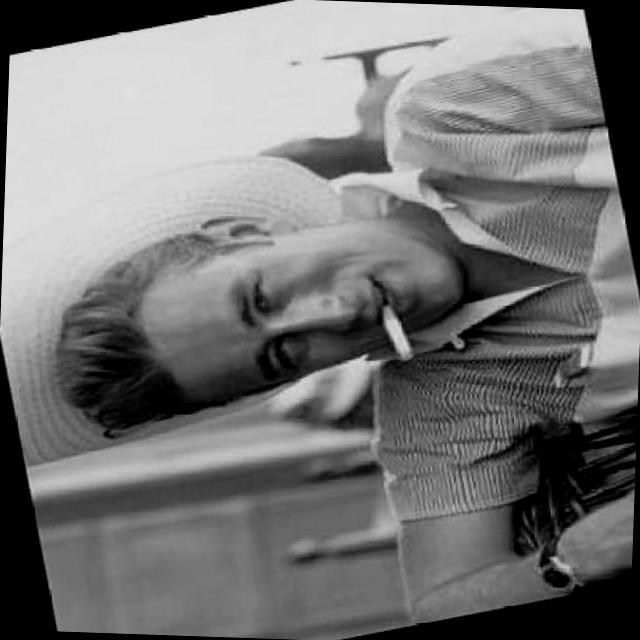smoke: (374, 298, 421, 369)
